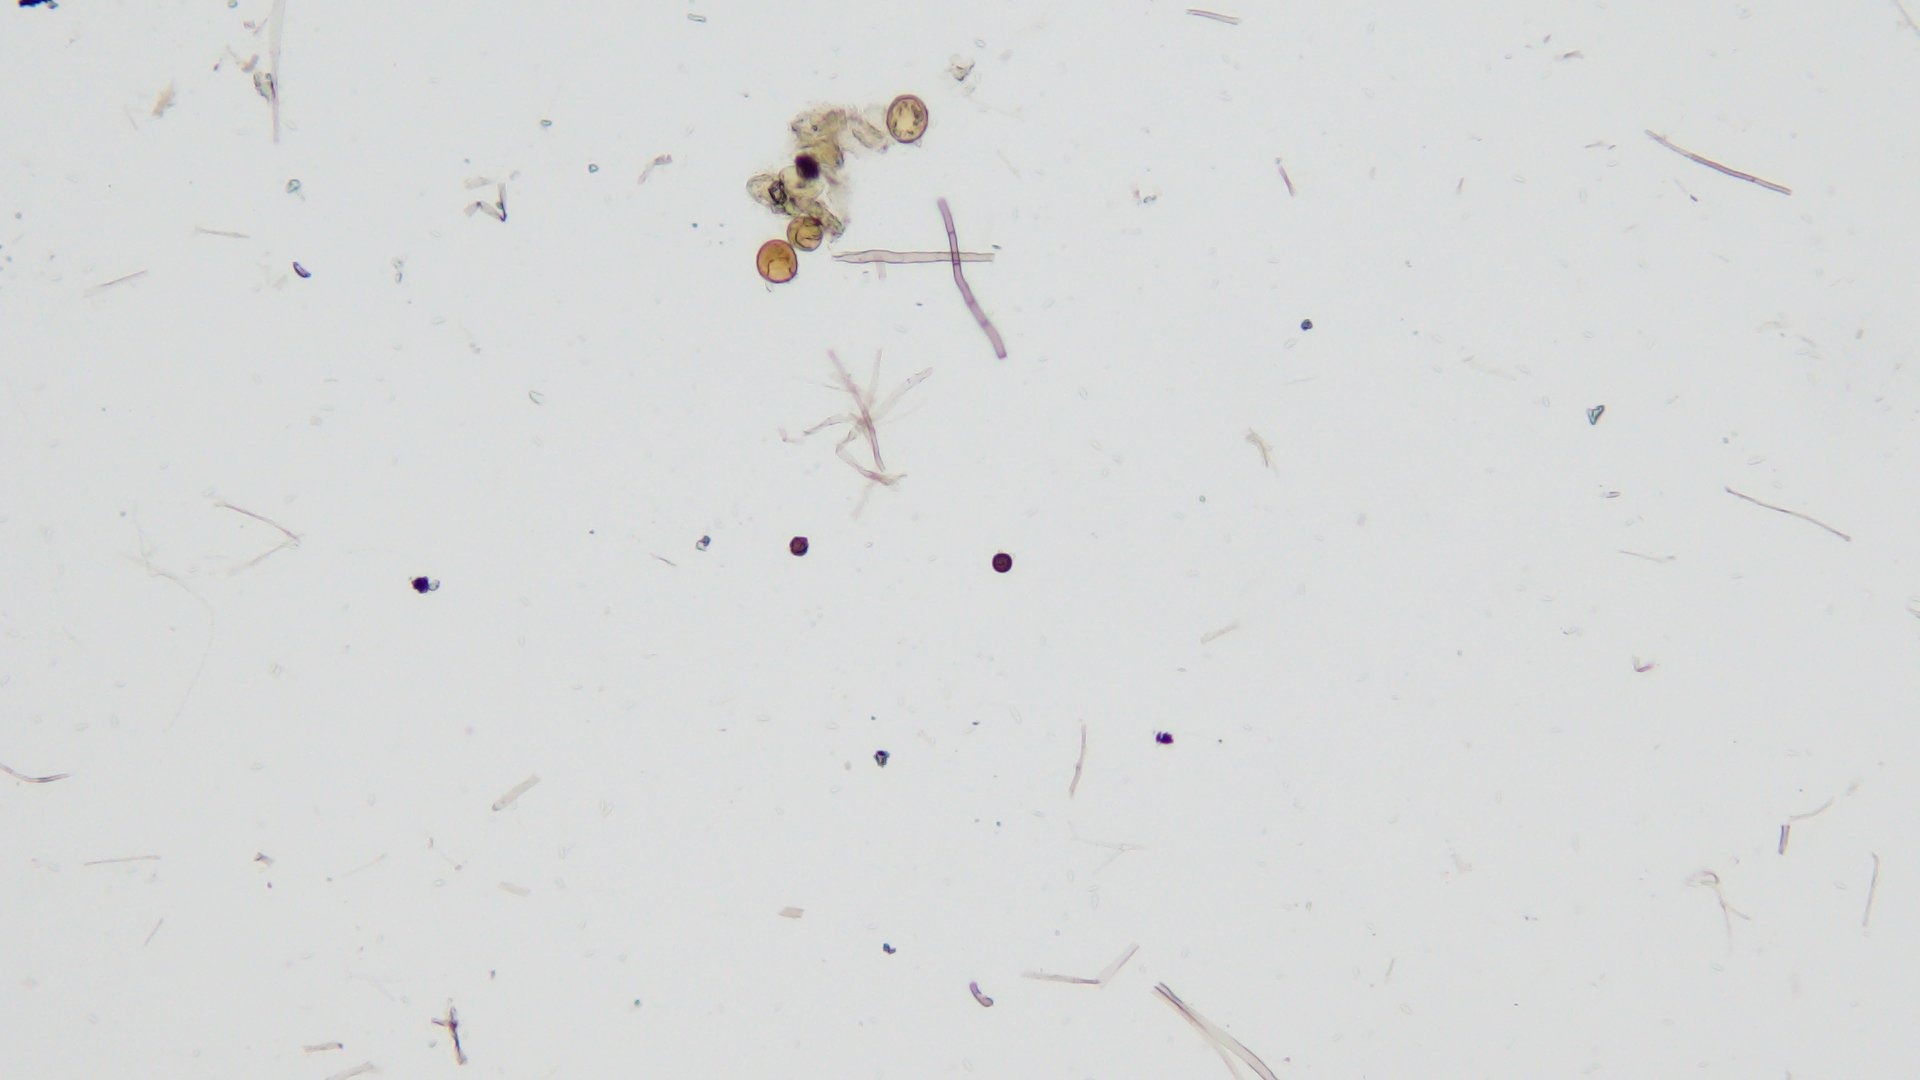shs_spore: (789, 535, 814, 556), (990, 555, 1015, 574)
xb_spore: (886, 95, 930, 145), (760, 239, 798, 285), (783, 211, 825, 252)
